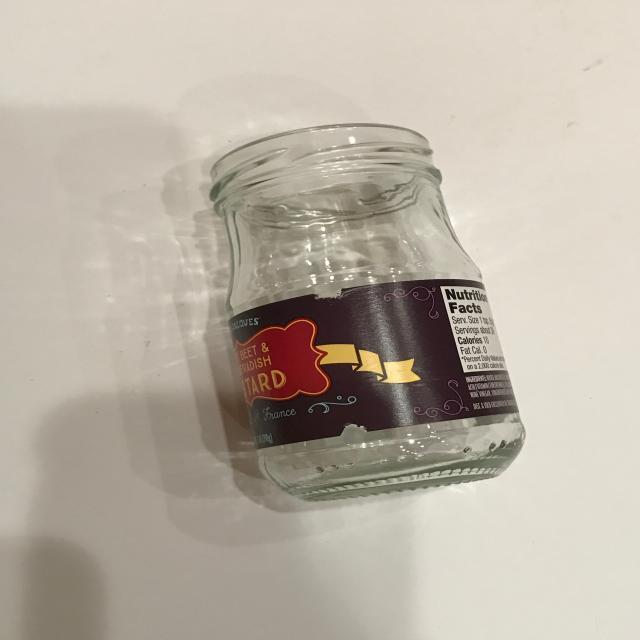glass: (206, 122, 530, 506)
